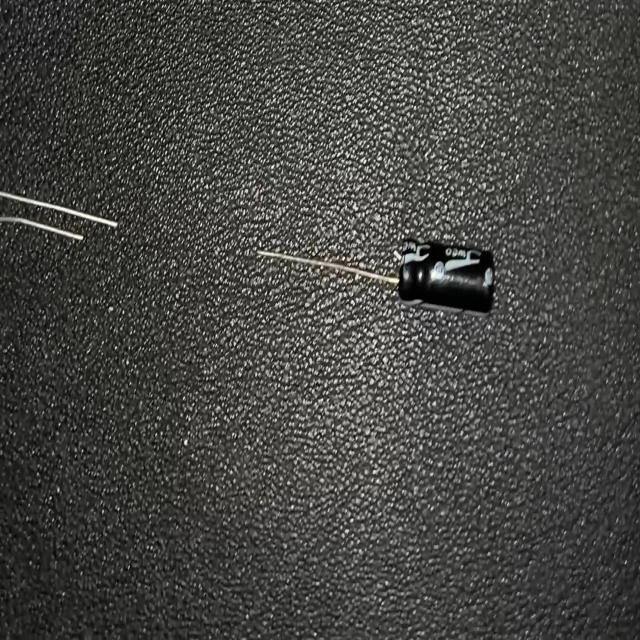missing-leg: (255, 224, 496, 320)
